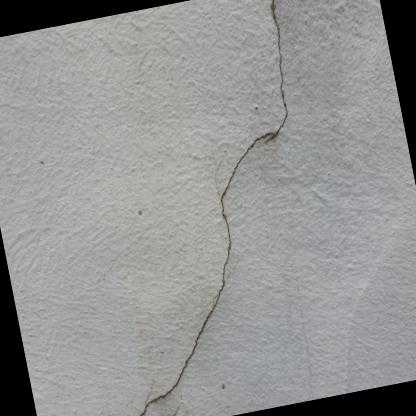crack: (138, 132, 271, 416), (272, 0, 287, 133)
